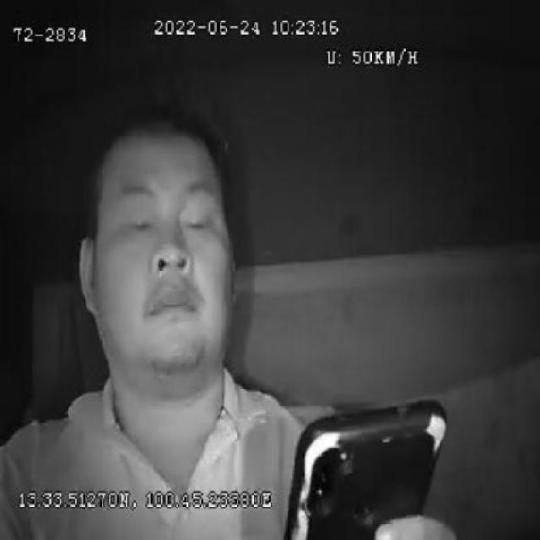phone: (286, 397, 447, 540)
